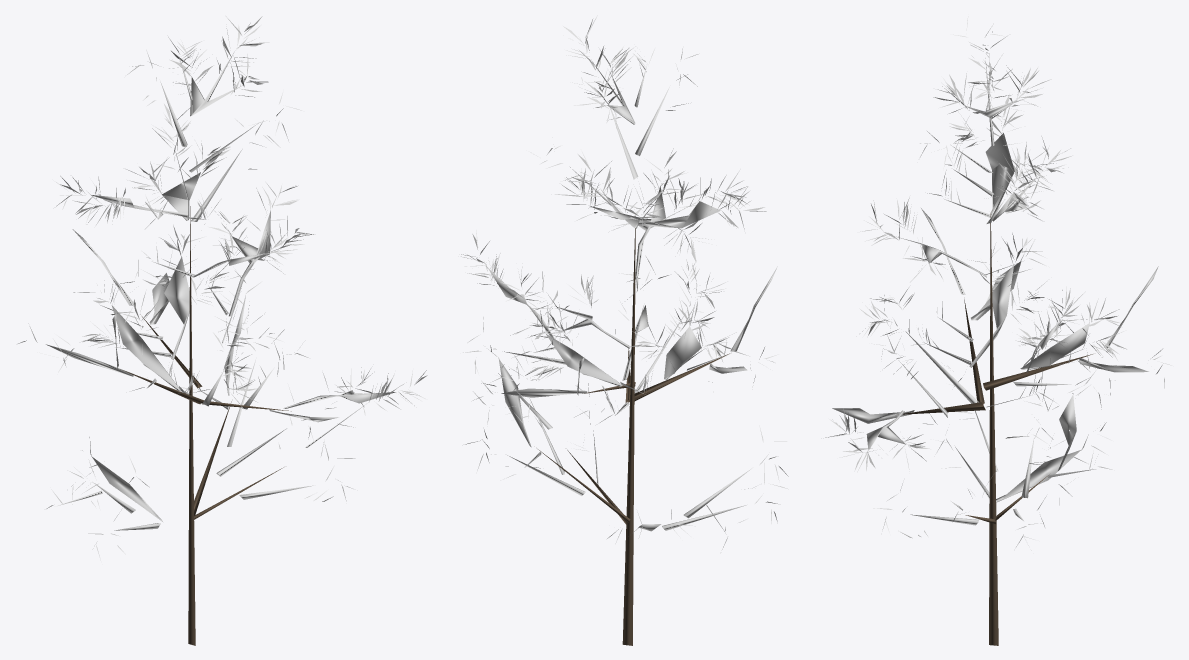
The model's file is Pine_LOD2.fbx.
3 renders of one model, left to right at view 1: azimuth 30°, elevation 25°; view 2: azimuth 150°, elevation 25°; view 3: azimuth 270°, elevation 25°, orthographic.
Parts seen in each view (by area): view 1: Pine_LOD2; view 2: Pine_LOD2; view 3: Pine_LOD2.
Boxes of the visible parts, bbox=[...] form: Pine_LOD2: bbox=[18, 16, 427, 645]; Pine_LOD2: bbox=[461, 15, 788, 645]; Pine_LOD2: bbox=[825, 16, 1171, 645].
Size of the model in its own units: 69.44 by 129 by 67.65.
